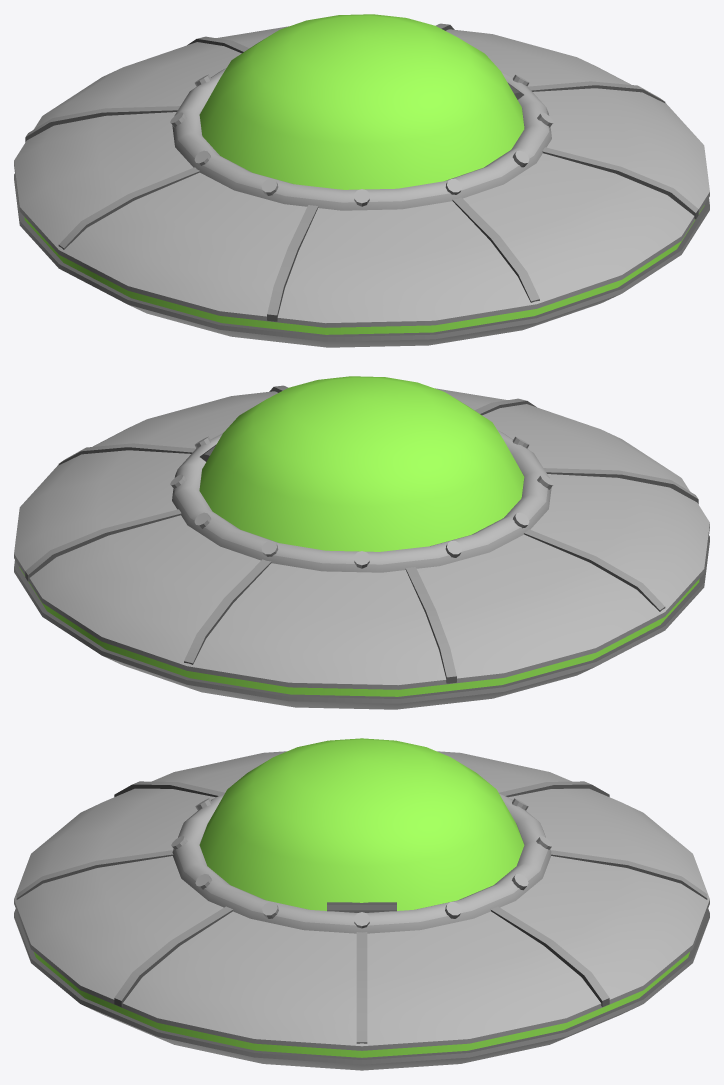
File: ufo2.fbx
The picture shows the model from 3 angles, top to bottom: view 1: azimuth 30°, elevation 25°; view 2: azimuth 150°, elevation 25°; view 3: azimuth 270°, elevation 25°; orthographic projection.
Visible parts, largest first — view 1: ufo2; view 2: ufo2; view 3: ufo2.
Boxes of the visible parts, <box> form: ufo2: <box>14,14,709,347</box>; ufo2: <box>14,376,709,709</box>; ufo2: <box>14,738,709,1070</box>.
Size of the model in its own units: 1713 by 577 by 1713.
